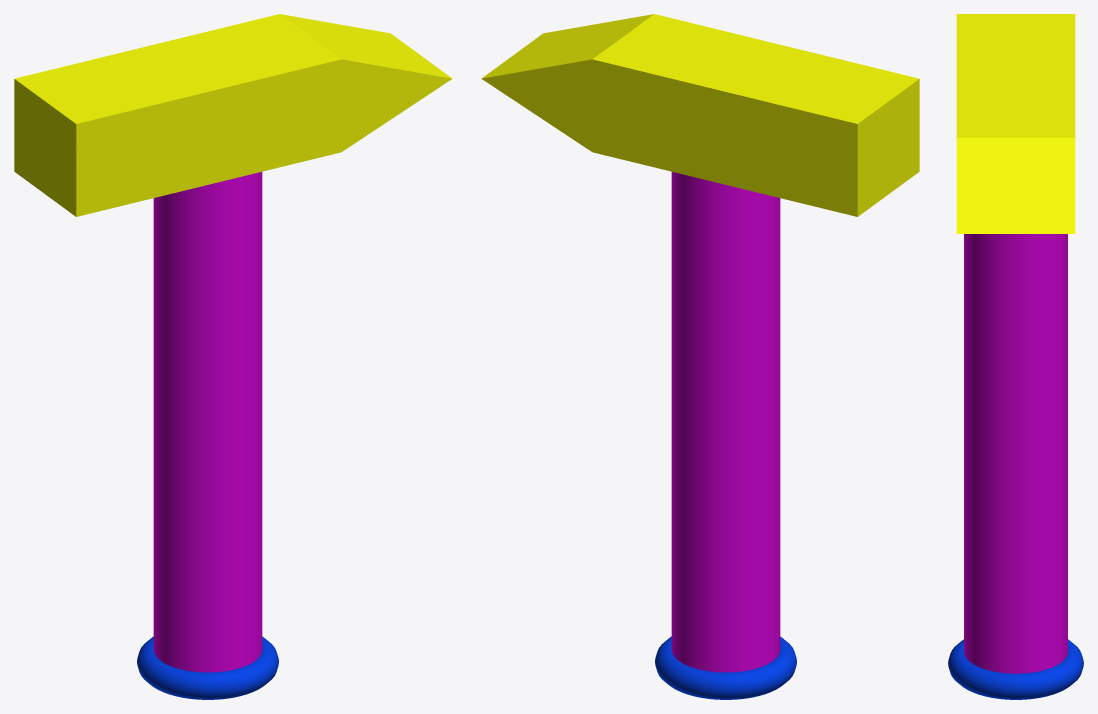
Rendered from engel3.fbx.
3 renders of one model, left to right at view 1: azimuth 30°, elevation 25°; view 2: azimuth 150°, elevation 25°; view 3: azimuth 270°, elevation 25°, orthographic. The views are drawn at different scales.
Visible parts, largest first — view 1: Cube, Cylinder, Torus; view 2: Cube, Cylinder, Torus; view 3: Cylinder, Cube, Torus.
Part boxes in pixels (x1,y1,x2,y2): Cube: (14,14,452,216); Cylinder: (153,172,262,672); Torus: (137,636,278,699); Cube: (481,14,919,216); Cylinder: (671,172,780,672); Torus: (655,636,796,699); Cylinder: (964,234,1067,673); Cube: (956,14,1075,233); Torus: (948,639,1083,699).
Size of the model in its own units: 539 by 839 by 176.
